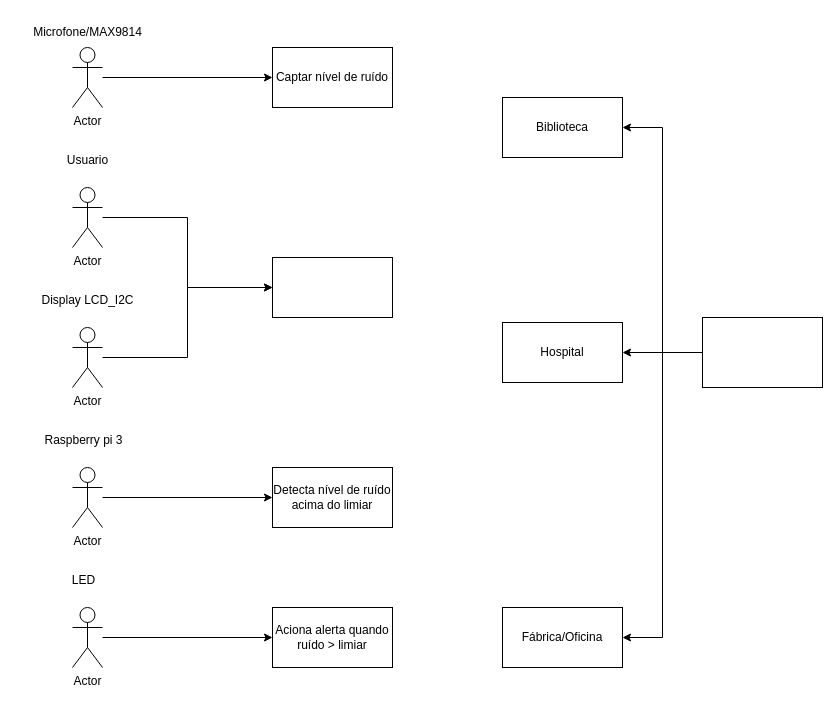
Image size: 840x705. Some labels were removed from this diagram. The centre of each missing label's shape, as x and y in pixels:
Aplicações: (x=762, y=352)
Exibir nível de ruído e a sua média: (x=332, y=287)
